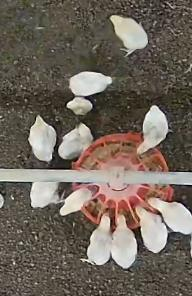chick: (146, 197, 192, 236), (137, 104, 171, 154), (109, 14, 149, 55), (112, 212, 138, 270), (136, 205, 167, 252), (28, 115, 56, 162), (88, 210, 111, 265), (60, 121, 93, 159), (68, 70, 114, 97), (30, 180, 65, 205), (61, 189, 92, 216), (66, 96, 94, 117)
rice: (71, 130, 173, 233)
